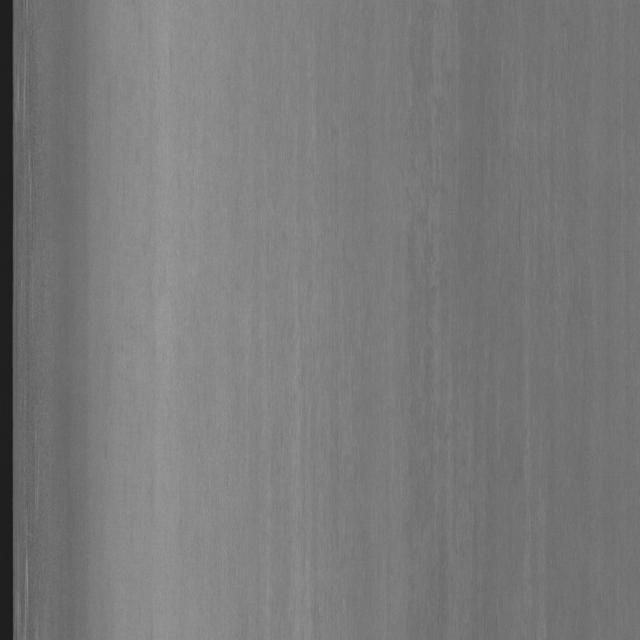inclusion: (392, 14, 461, 242)
